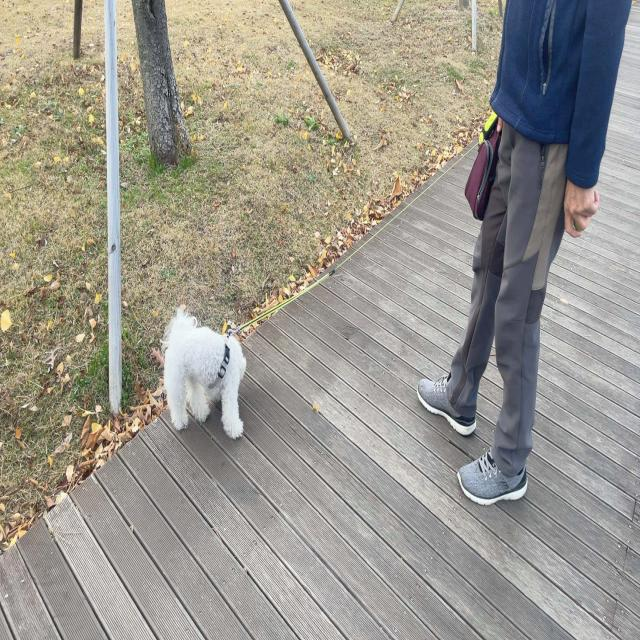Leashed_Dog: (163, 111, 527, 440)
